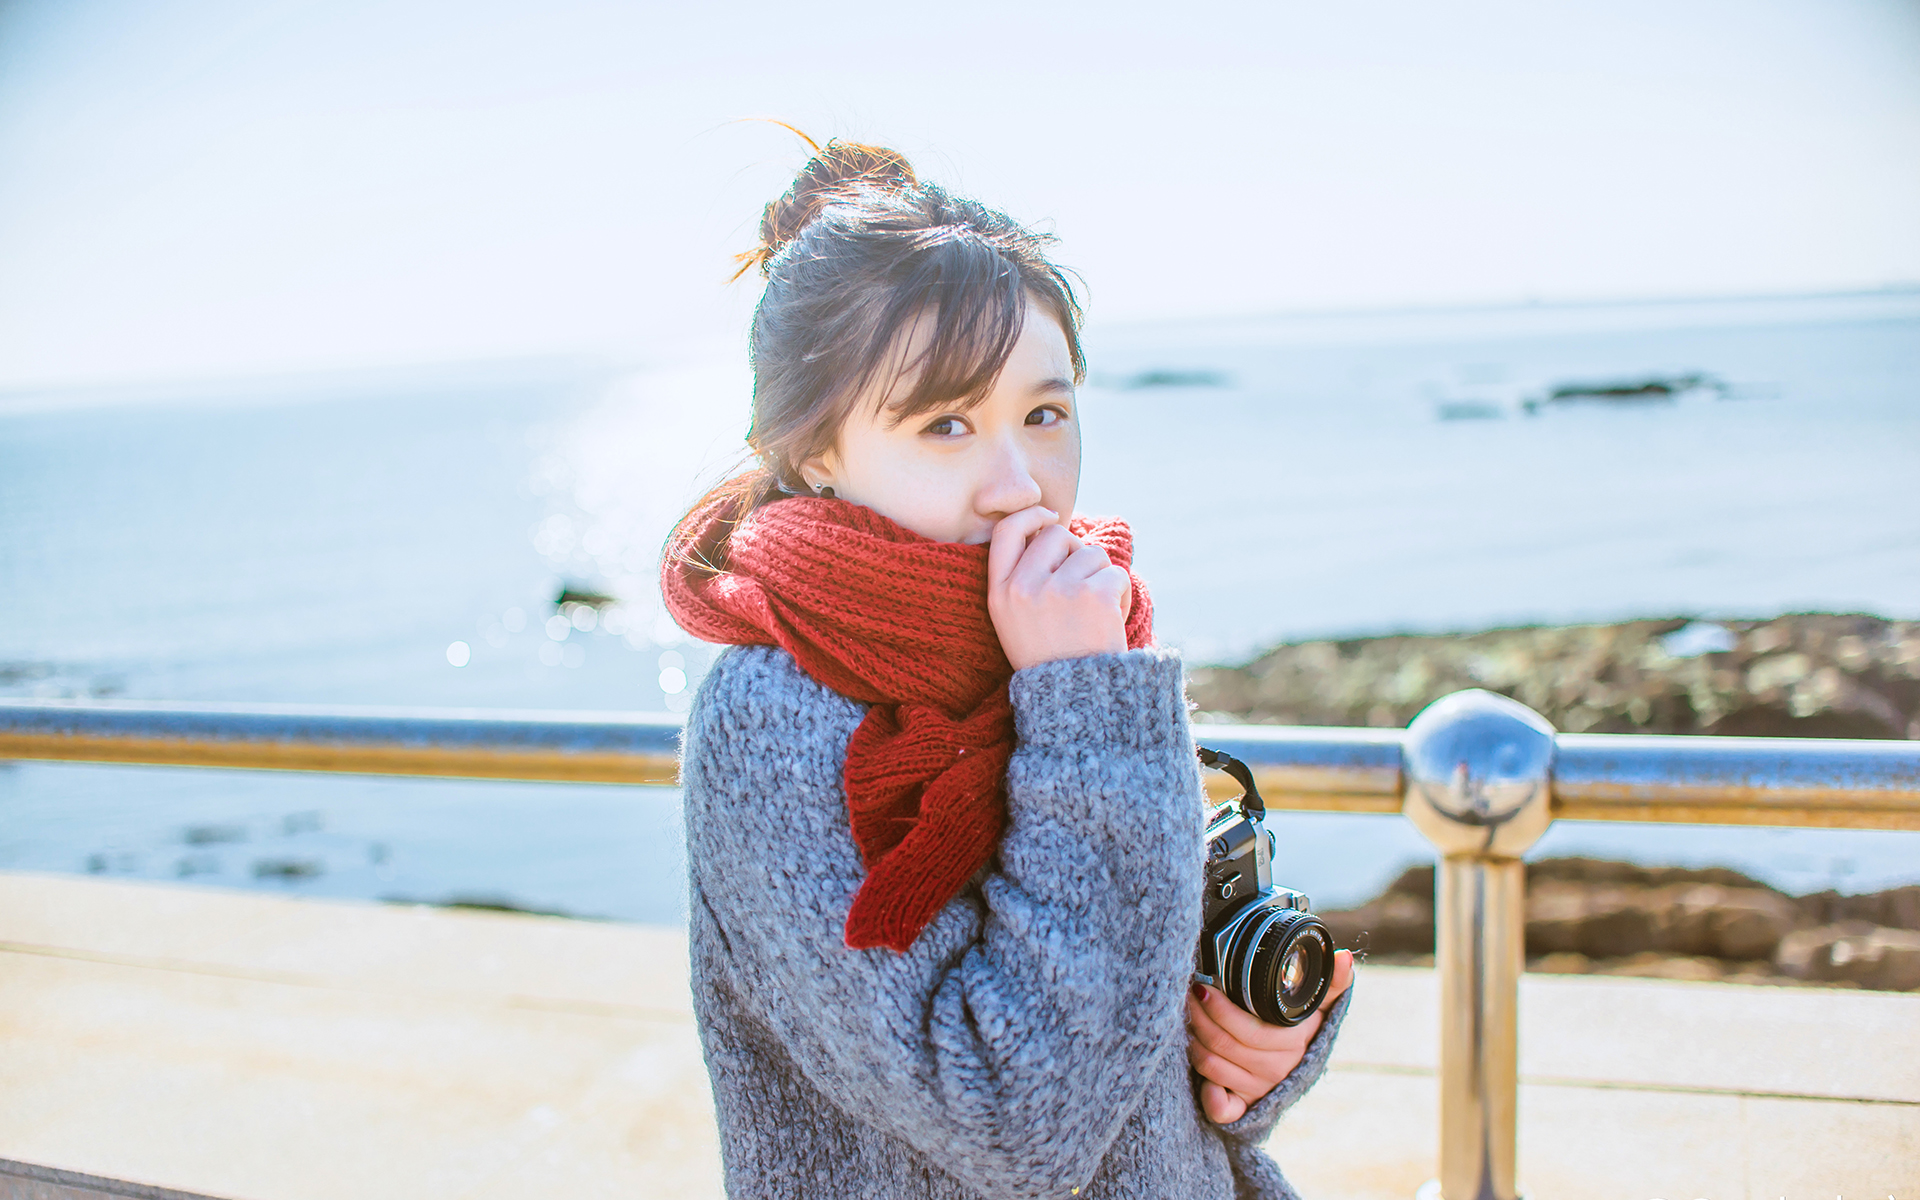face: (854, 289, 1100, 609)
